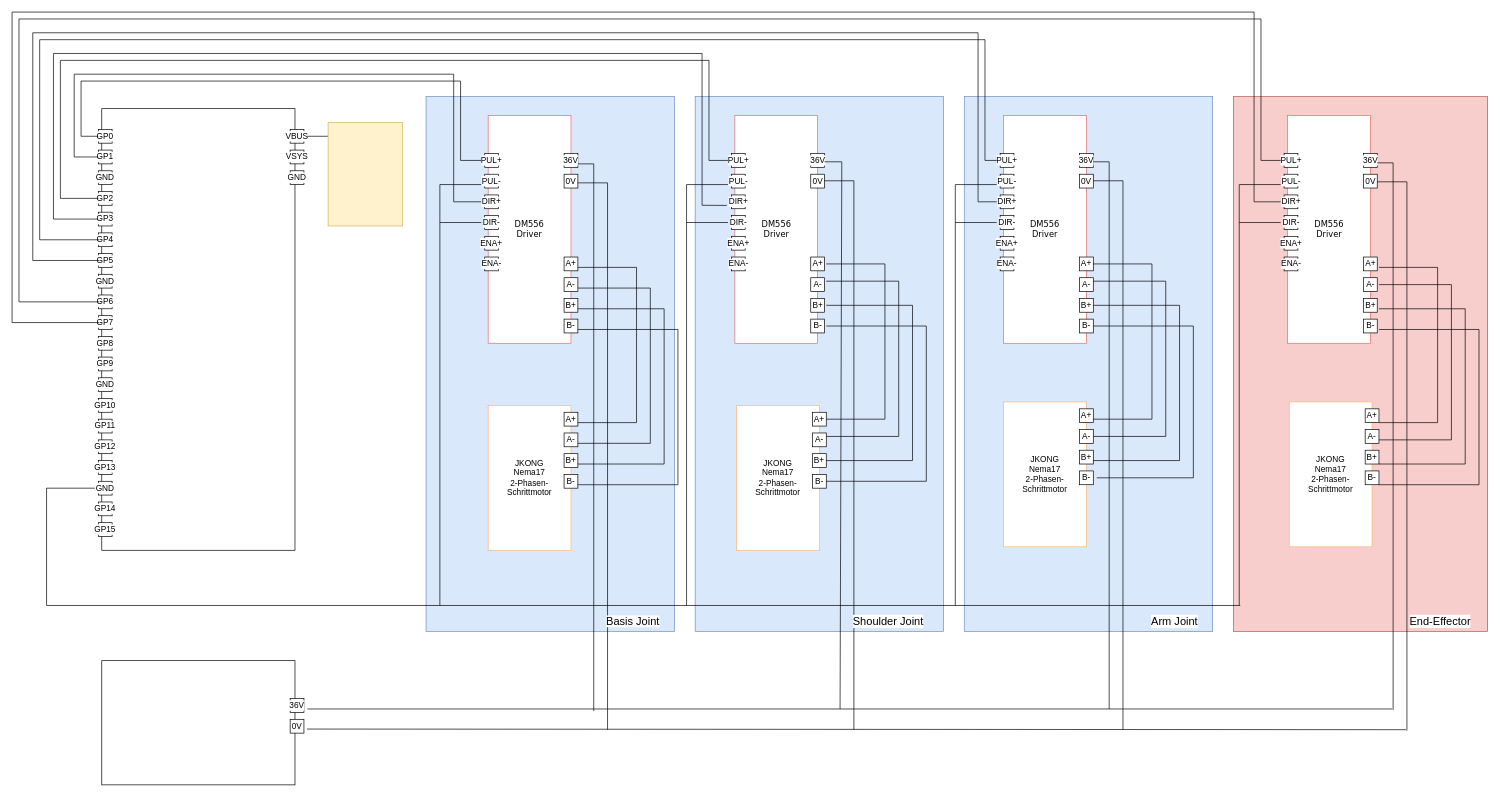
This 1500x797 diagram has some shape labels left out. The box of each missing label's shape, as (x1, y1, x2, y2) in pixels:
36V-10A Power Supply: (101, 660, 295, 785)
MQTT Broker: (327, 122, 403, 226)
RP2040 Pico Controller: (101, 108, 295, 550)
